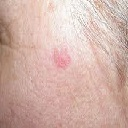Carcinoma: (54, 44, 72, 70)
